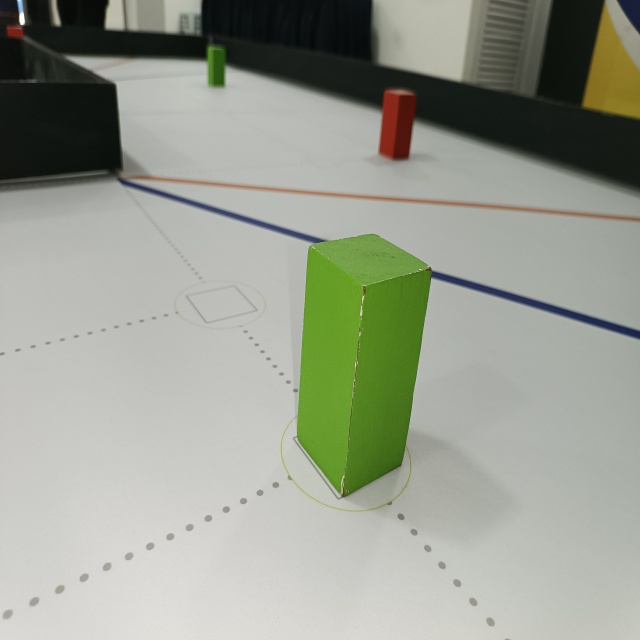blue line: (102, 181, 640, 340)
green rectangular prism: (295, 229, 433, 495), (202, 43, 228, 87)
orange line: (113, 171, 640, 225)
red rectangular prism: (379, 82, 416, 159)
